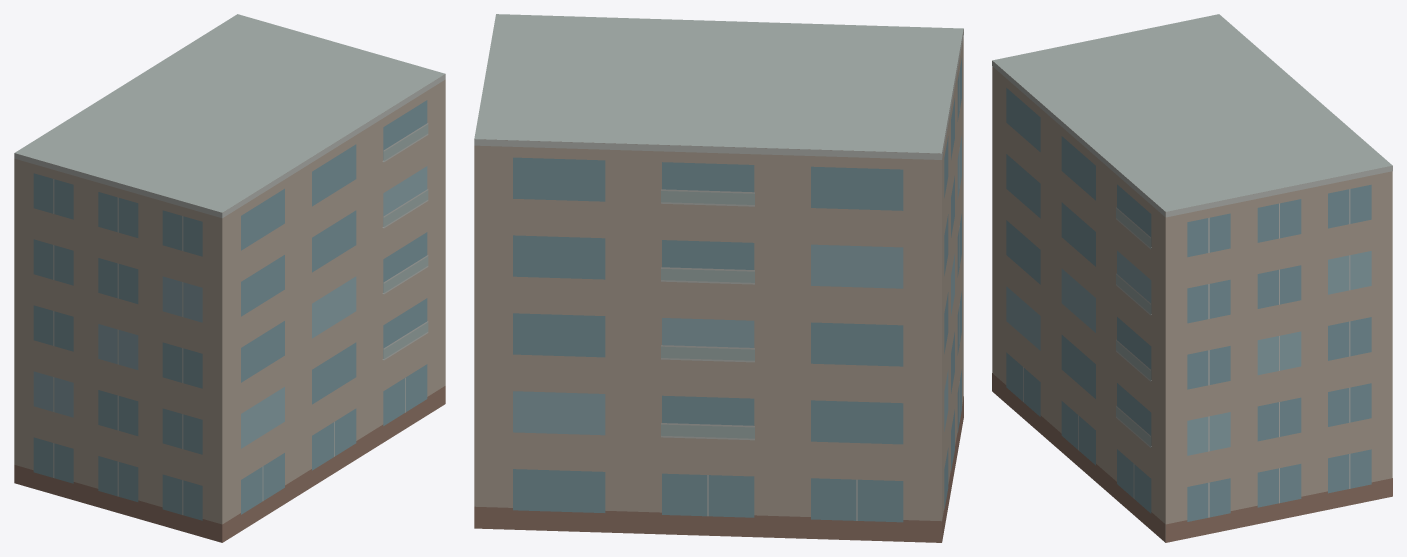
Rendered from survey-upis-32705141.glb.
The picture shows the model from 3 angles, left to right: view 1: azimuth 30°, elevation 25°; view 2: azimuth 150°, elevation 25°; view 3: azimuth 270°, elevation 25°; orthographic projection. The views are drawn at different scales.
Parts seen in each view (by area): view 1: survey-upis-32705141.tmp; view 2: survey-upis-32705141.tmp; view 3: survey-upis-32705141.tmp.
Boxes of the visible parts, x1,y1,x2,y2 form: survey-upis-32705141.tmp: (14, 14, 445, 542); survey-upis-32705141.tmp: (474, 14, 963, 542); survey-upis-32705141.tmp: (992, 14, 1392, 542).
Bounding box in the file's own units: 18.61 × 14.5 × 15.92.
